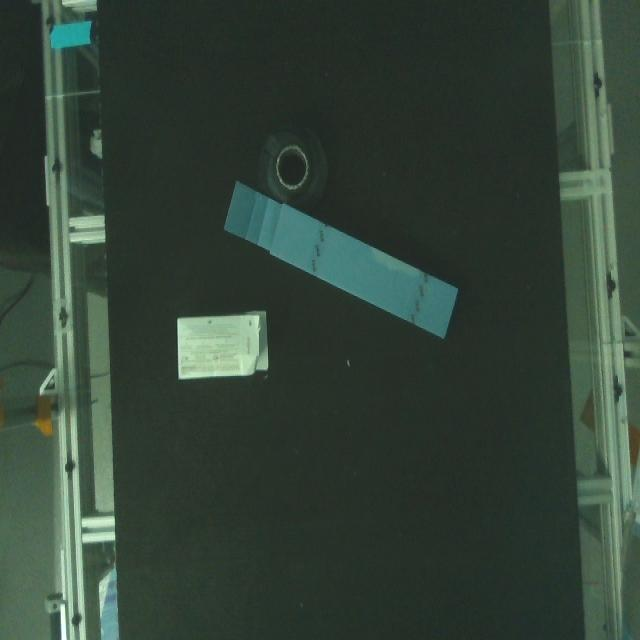non-paper: (252, 120, 332, 214)
paper: (220, 182, 467, 343), (174, 310, 276, 382)
